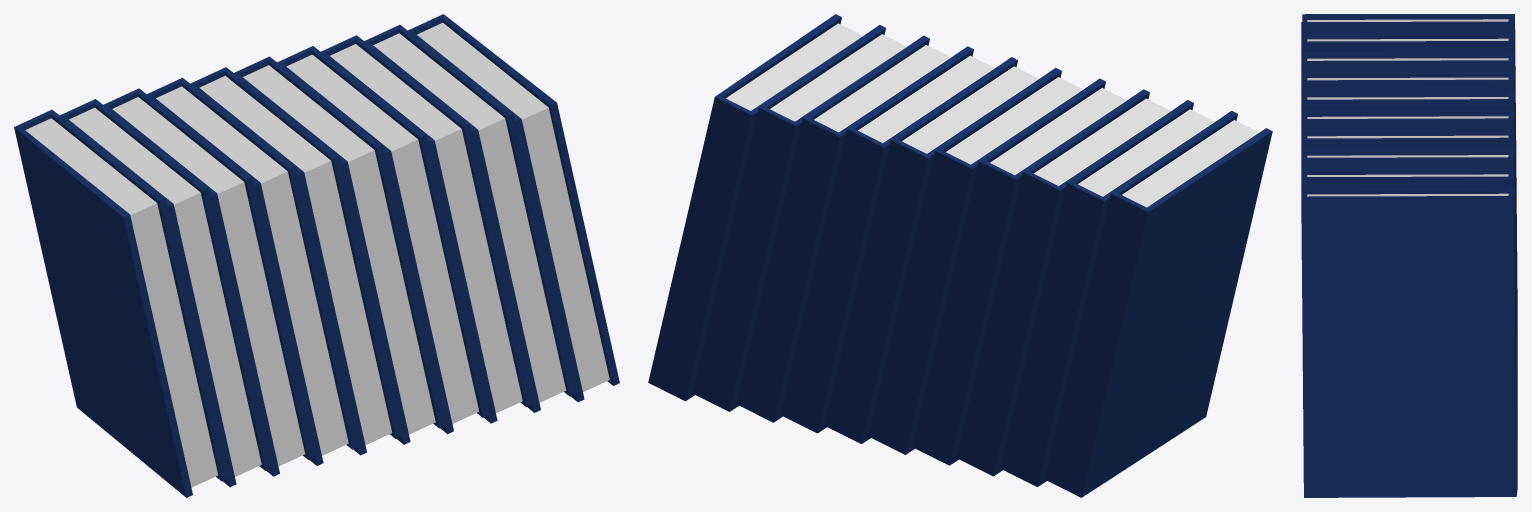
File: Buku Banyak.fbx
3 renders of one model, left to right at view 1: azimuth 30°, elevation 25°; view 2: azimuth 150°, elevation 25°; view 3: azimuth 270°, elevation 25°, orthographic. The views are drawn at different scales.
Parts seen in each view (by area): view 1: Cube.050; view 2: Cube.050; view 3: Cube.050.
Part boxes in pixels (x1=…): Cube.050: x1=14, y1=14, x2=619, y2=497; Cube.050: x1=648, y1=14, x2=1272, y2=497; Cube.050: x1=1301, y1=14, x2=1517, y2=497.
Bounding box in the file's own units: 117 × 69.39 × 48.16.
1 material, 1 textured.
